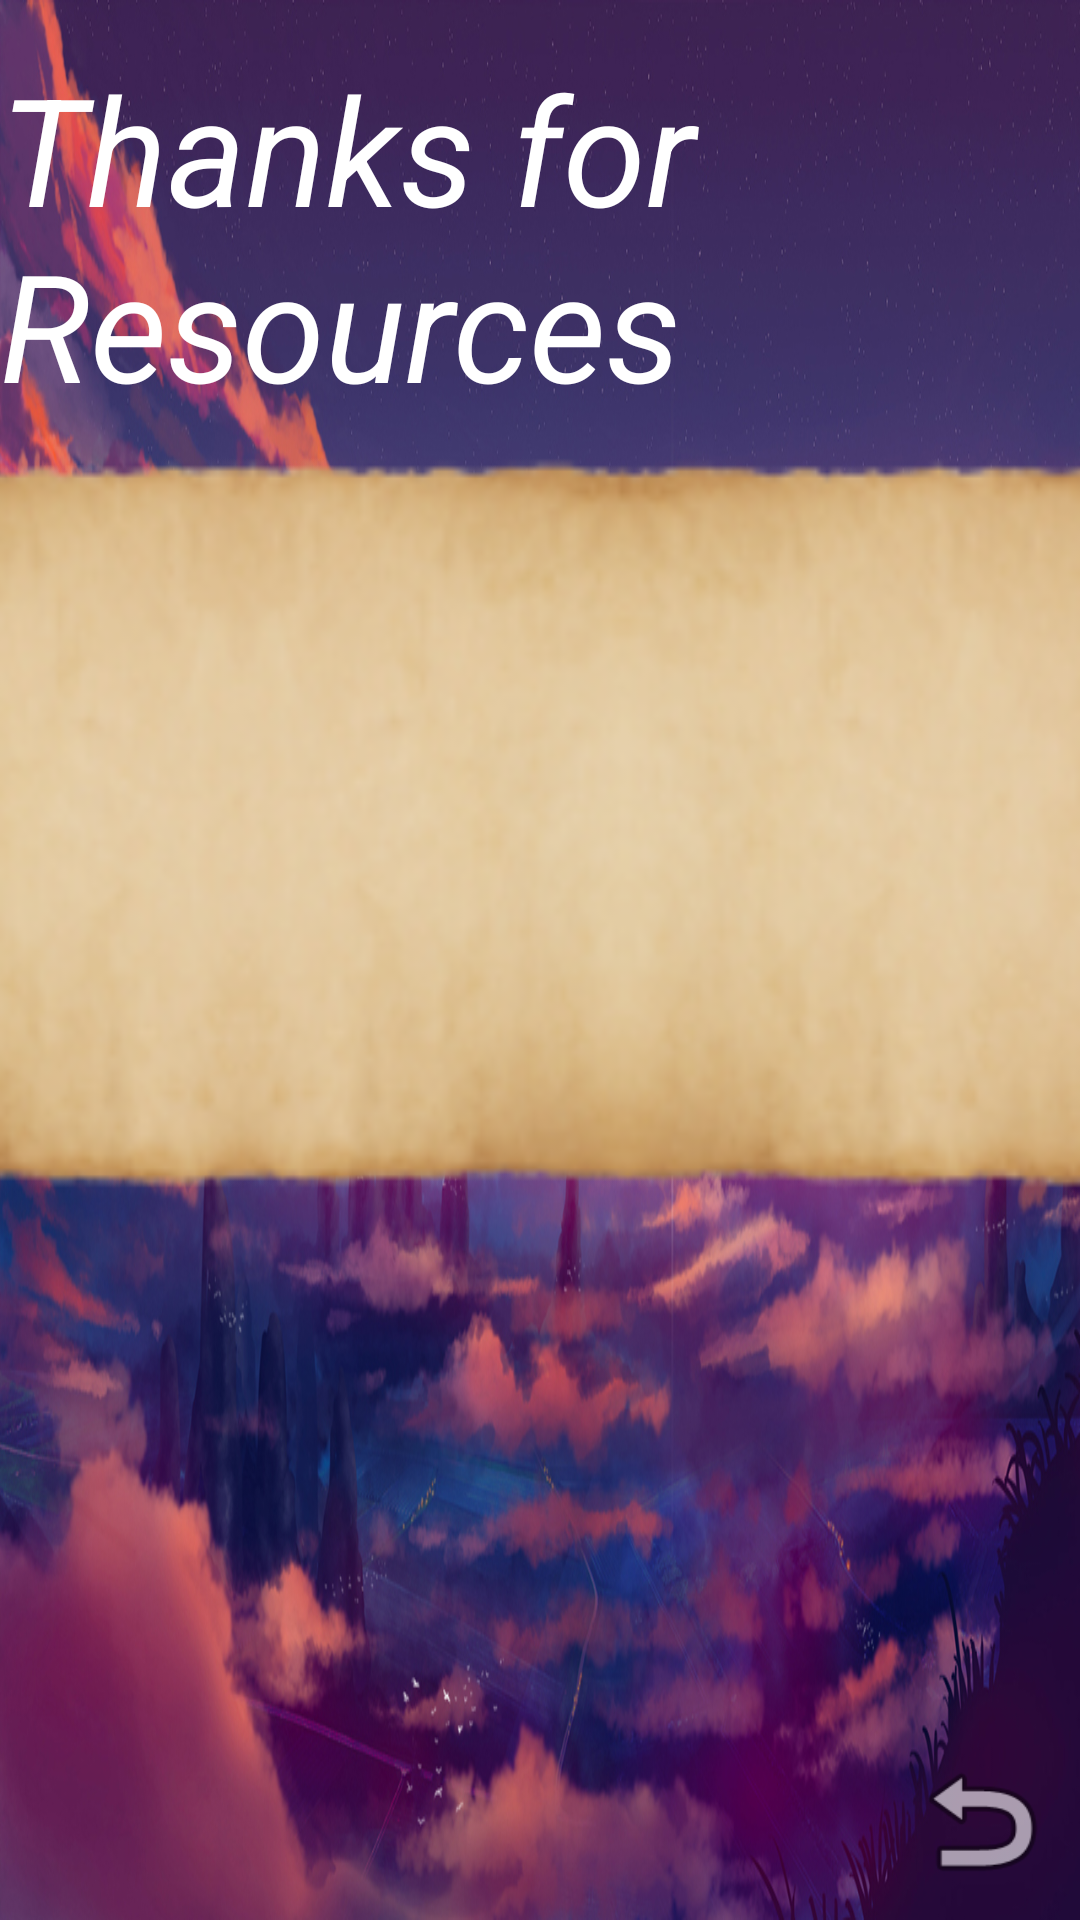

Icon click points for this 1080 x 1920 phone screenshot, format point (x, y):
revert: point (970, 1807)
